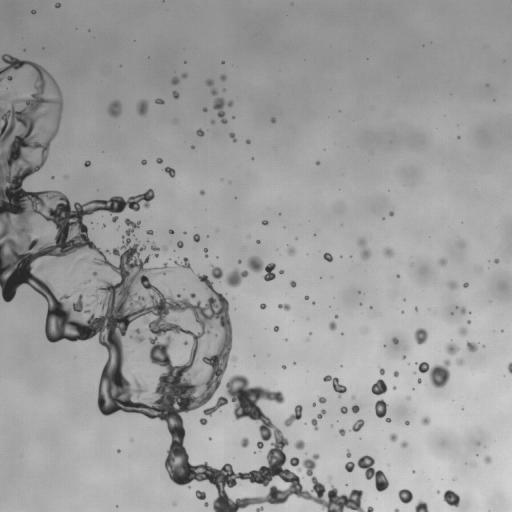droplet: (418, 359, 450, 387), (225, 268, 248, 286), (443, 490, 460, 506), (371, 379, 387, 395), (414, 328, 428, 345), (129, 328, 144, 343), (108, 100, 121, 117), (398, 489, 413, 503), (211, 264, 223, 280), (137, 100, 148, 115), (351, 419, 364, 431), (290, 457, 301, 471), (446, 342, 458, 354), (415, 500, 428, 511), (164, 166, 175, 177), (466, 341, 477, 351), (383, 247, 393, 257), (345, 461, 354, 472), (240, 437, 249, 447), (294, 440, 304, 449), (323, 252, 332, 261), (196, 490, 205, 499), (278, 304, 290, 310), (287, 247, 295, 255), (422, 417, 430, 425), (389, 433, 397, 441), (329, 321, 336, 330), (171, 77, 179, 84), (196, 129, 204, 136), (318, 396, 326, 403), (352, 405, 359, 413), (484, 455, 491, 463), (172, 91, 179, 98), (439, 258, 446, 265), (459, 328, 466, 335), (456, 358, 463, 365), (340, 406, 347, 413), (200, 418, 207, 425), (155, 98, 163, 104), (193, 234, 199, 242), (206, 79, 213, 85), (449, 282, 456, 288), (392, 337, 398, 344), (400, 441, 407, 447), (211, 89, 217, 95), (177, 241, 183, 247), (290, 281, 296, 287), (260, 303, 266, 309), (339, 429, 345, 435), (112, 215, 117, 222), (261, 220, 268, 225), (379, 368, 384, 375), (256, 506, 263, 511), (220, 75, 226, 80), (156, 158, 162, 163), (84, 161, 90, 166), (393, 371, 398, 377), (346, 451, 351, 457), (146, 230, 153, 234), (227, 101, 232, 106), (494, 258, 499, 263), (92, 271, 97, 276), (461, 308, 465, 314), (274, 325, 278, 331), (55, 3, 60, 7), (182, 73, 186, 78), (7, 76, 12, 80), (271, 117, 275, 122), (141, 160, 146, 164), (38, 265, 43, 269), (463, 283, 468, 287), (183, 340, 188, 344), (0, 97, 4, 101), (203, 107, 207, 111), (246, 139, 250, 143), (200, 190, 204, 194), (389, 211, 393, 215), (169, 229, 173, 233), (163, 246, 167, 250), (279, 270, 283, 274), (282, 365, 286, 369), (417, 378, 421, 382), (351, 395, 355, 399), (405, 421, 409, 425), (204, 502, 208, 506), (394, 508, 399, 511), (31, 10, 35, 13), (211, 120, 214, 123), (316, 161, 319, 164), (305, 296, 308, 299), (335, 315, 338, 318), (393, 386, 396, 389), (407, 396, 410, 399), (312, 403, 315, 406), (257, 240, 259, 243), (238, 260, 241, 262), (312, 302, 315, 304), (467, 321, 470, 323), (117, 450, 120, 452), (191, 146, 193, 148), (397, 275, 399, 277), (370, 306, 372, 308), (415, 307, 417, 309), (403, 356, 405, 358), (328, 478, 330, 480), (437, 491, 439, 493)
ligament: (0, 54, 373, 511), (357, 455, 388, 491), (247, 256, 275, 281), (323, 375, 346, 397), (284, 405, 302, 426), (213, 98, 227, 123), (375, 399, 390, 422), (311, 409, 325, 430), (358, 238, 370, 259), (150, 243, 159, 257), (229, 132, 236, 141), (507, 362, 511, 373), (204, 248, 207, 256)
